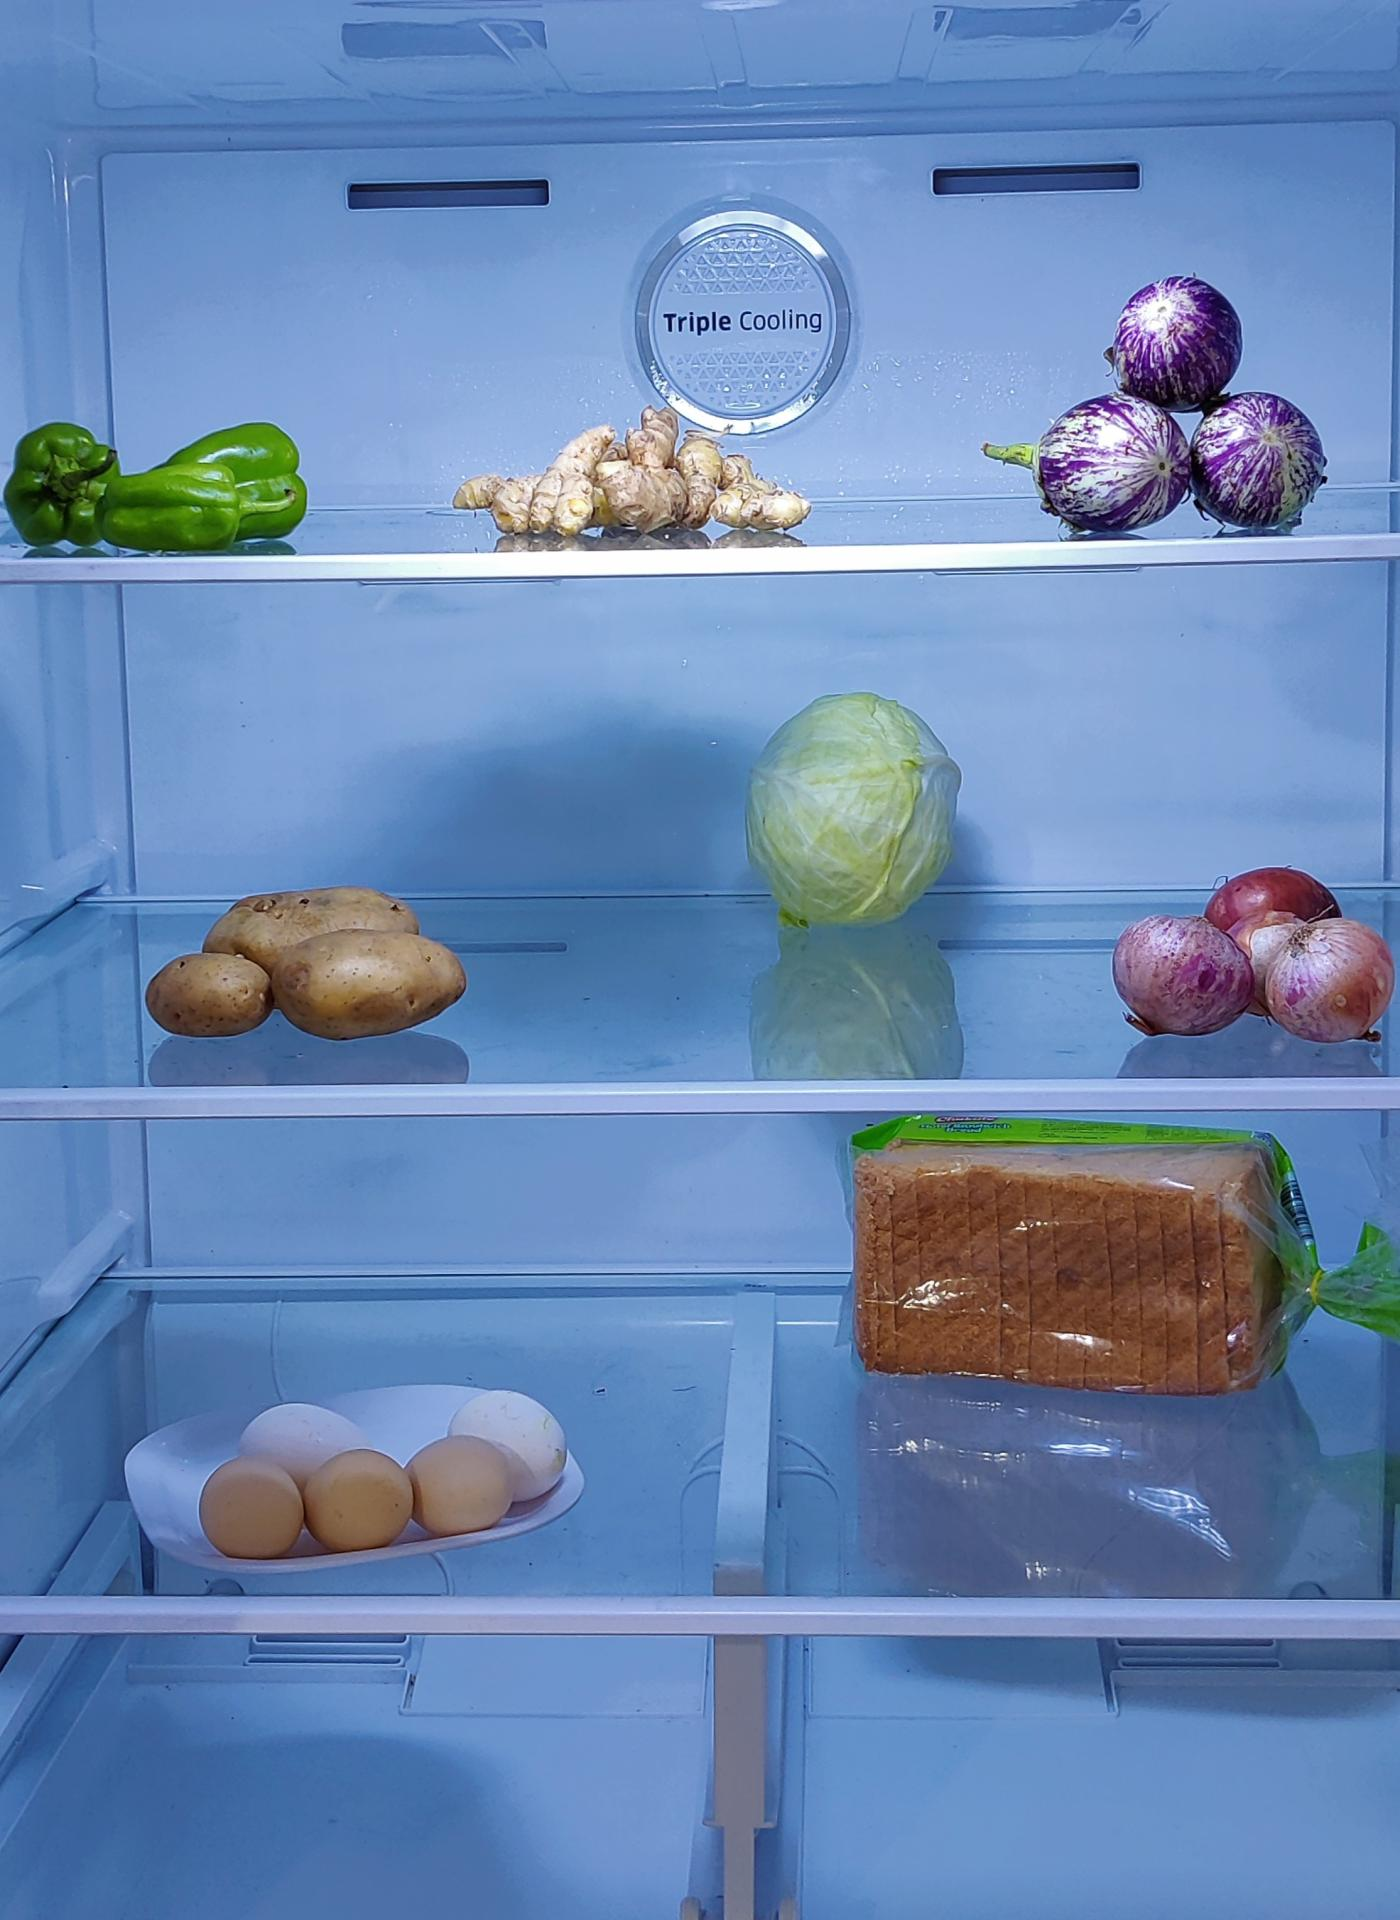bread: (839, 1117, 1305, 1407)
brinjal: (1045, 273, 1303, 519)
cabbage: (750, 684, 962, 923)
capsicum: (1, 410, 312, 558)
egg: (188, 1380, 564, 1549)
ginger: (465, 410, 813, 559)
onion: (1108, 866, 1394, 1054)
potato: (146, 854, 453, 1040)
